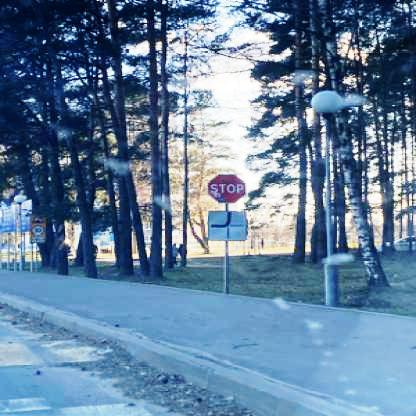Stop Sign: (206, 172, 248, 206)
